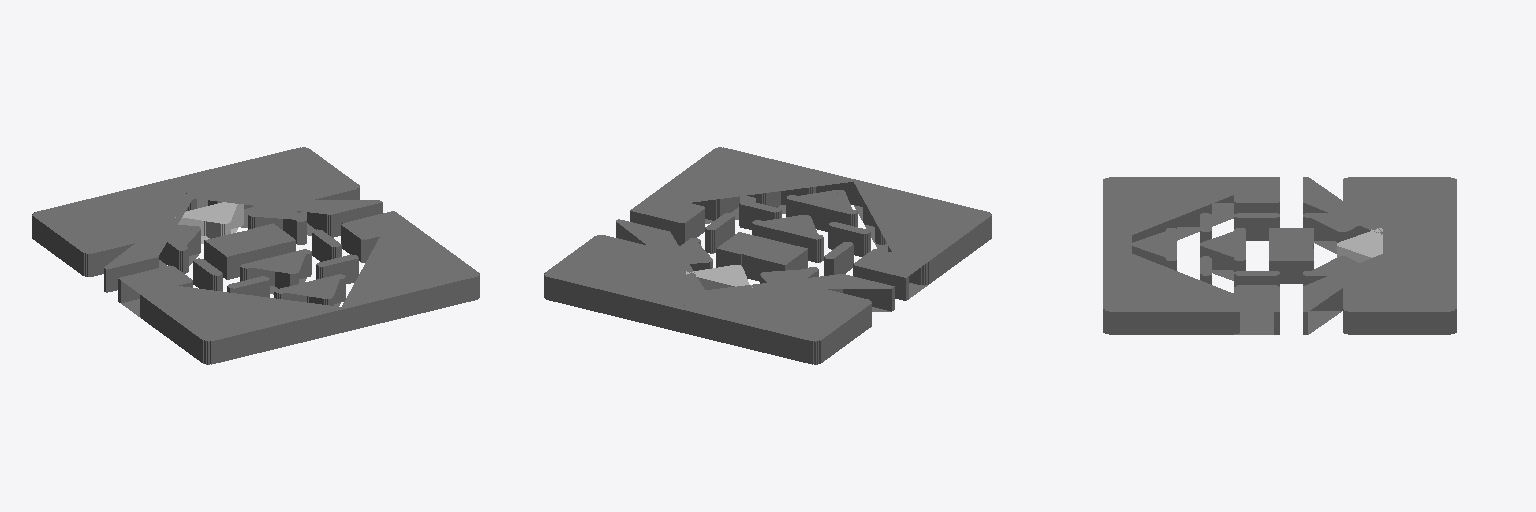
The model's file is board.obj.
The picture shows the model from 3 angles: view 1: azimuth 30°, elevation 25°; view 2: azimuth 150°, elevation 25°; view 3: azimuth 270°, elevation 25°; orthographic projection.
Visible parts, largest first — view 1: polySurface38; view 2: polySurface38; view 3: polySurface38.
Part boxes in pixels (x1,y1,x2,y2): polySurface38: (32, 147, 479, 364); polySurface38: (544, 147, 991, 364); polySurface38: (1103, 177, 1456, 334).
Size of the model in its own units: 2.24 by 0.18 by 2.48.